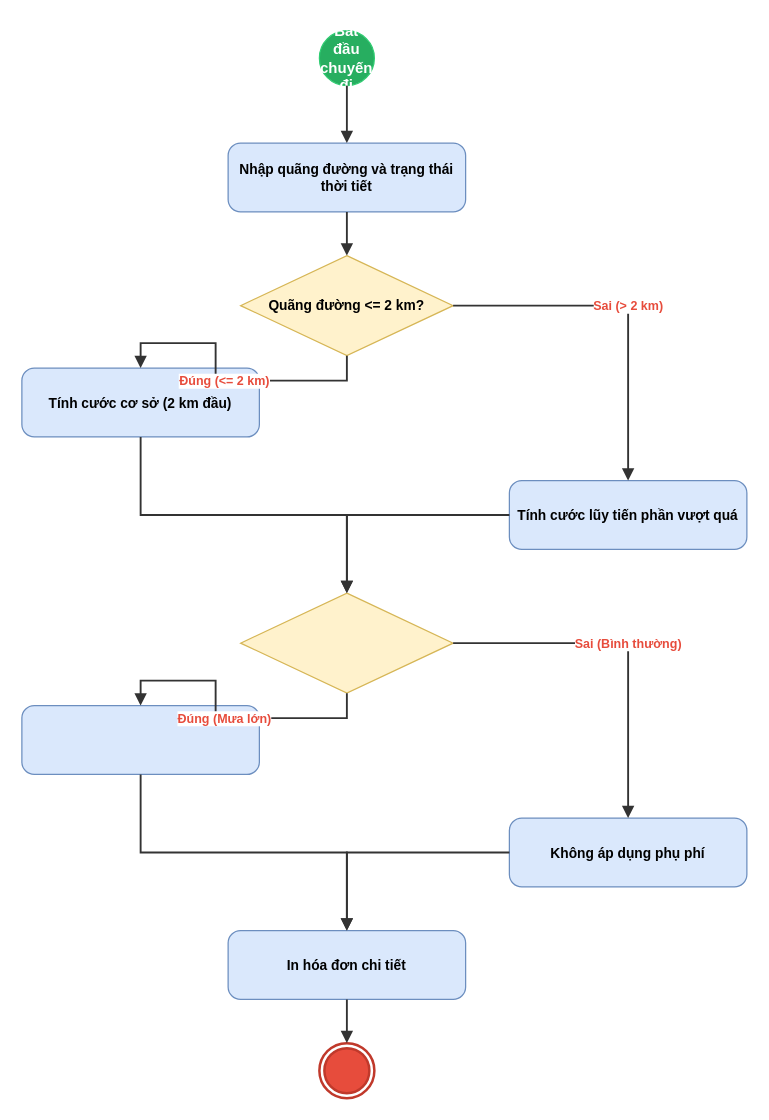
This 769x1120 diagram has some shape labels left out. The centre of each missing label's shape, as x and y in pixels:
Có mưa lớn không?: (x=346, y=642)
Kết thúc: (x=346, y=1070)
Nhân phụ phí thời tiết 1.2: (x=140, y=739)
